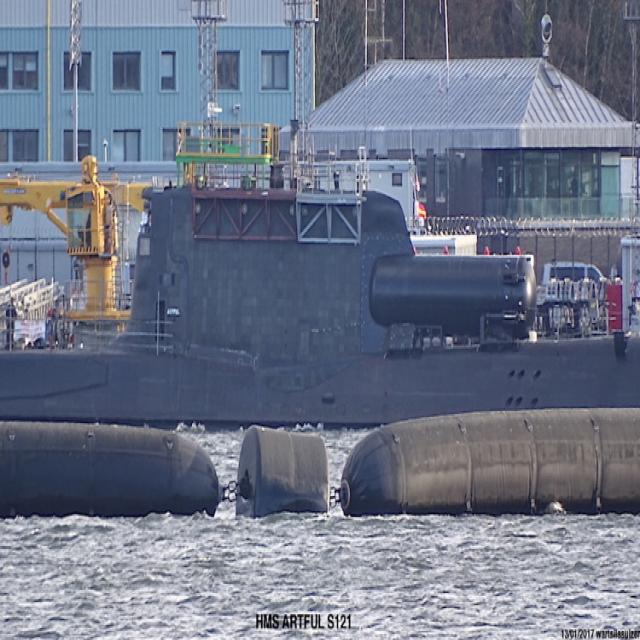submarine: (1, 188, 640, 418)
